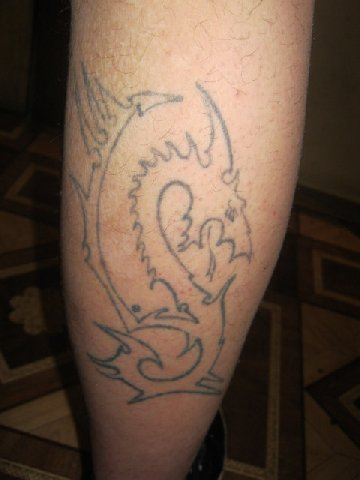tatu6_drakon: (61, 55, 252, 433)
